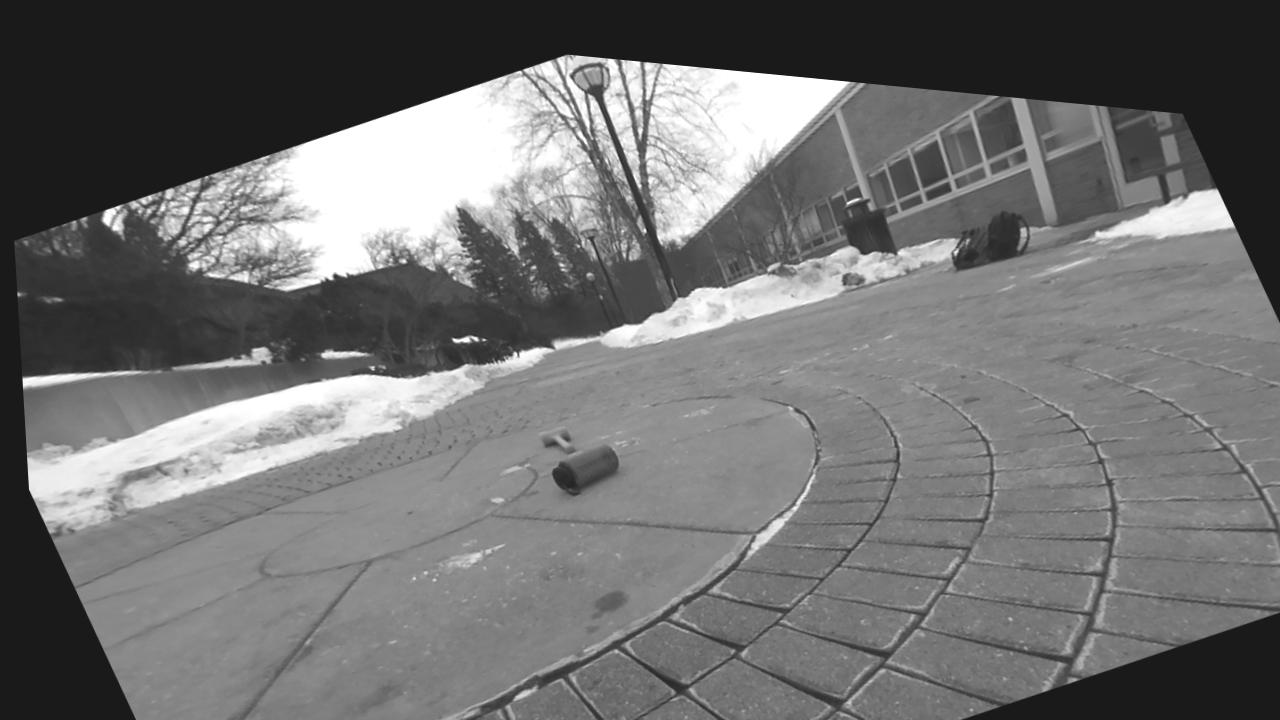bottle: (552, 445, 618, 494)
mallet: (537, 426, 575, 453)
